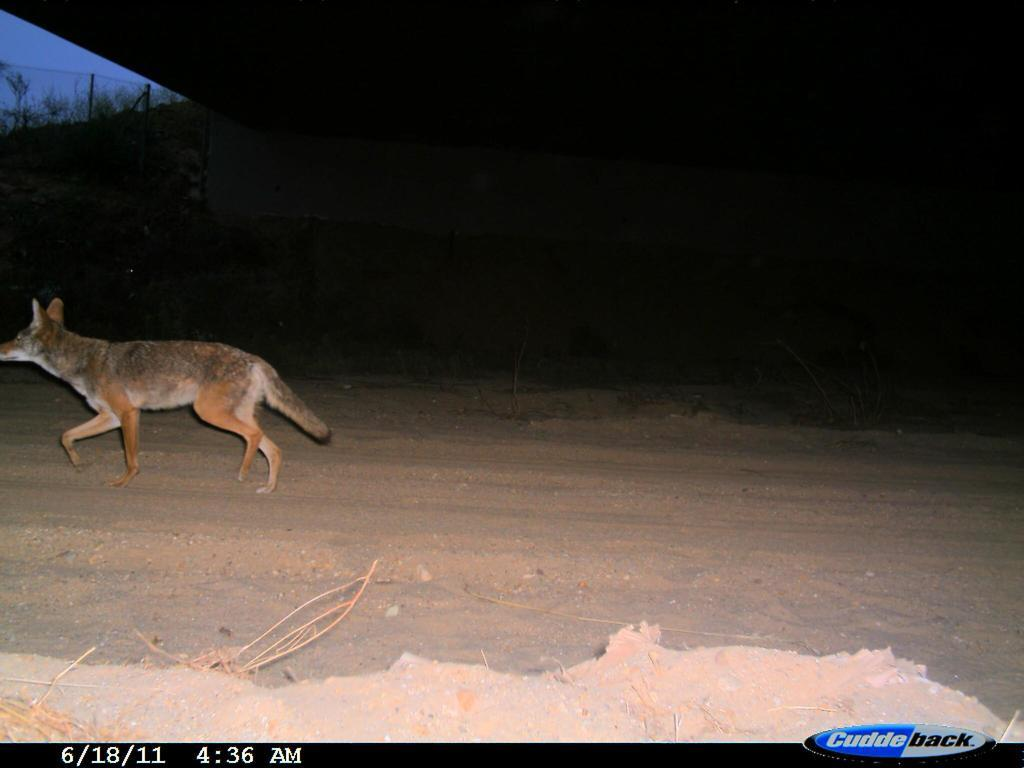coyote: (1, 289, 344, 498)
